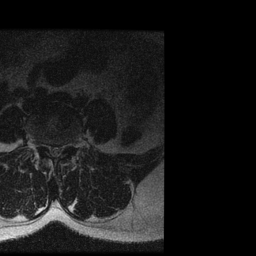CCS_severe_stenosis: (52, 141, 58, 161)
LFS_stenosis: (63, 137, 69, 151)
LLS_stenosis: (58, 141, 63, 158)
RFS_severe_stenosis: (41, 136, 47, 153)
RLS_stenosis: (47, 140, 52, 157)
